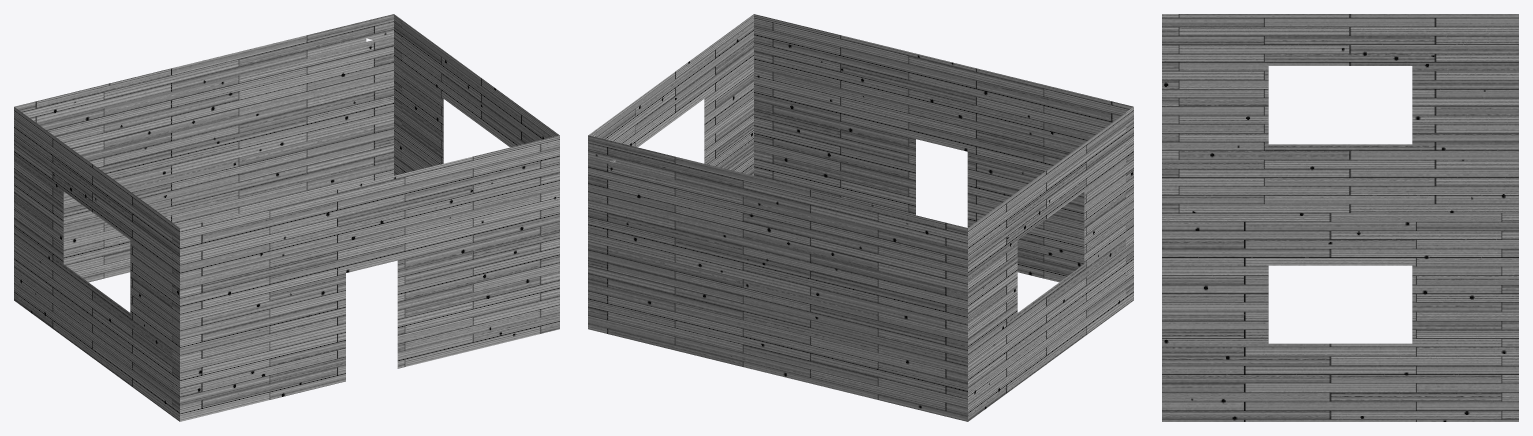
The model's file is InnoRenewHouse.glb.
The picture shows the model from 3 angles, left to right: view 1: azimuth 30°, elevation 25°; view 2: azimuth 150°, elevation 25°; view 3: azimuth 270°, elevation 25°; orthographic projection. The views are drawn at different scales.
Parts seen in each view (by area): view 1: TestHouse.002; view 2: TestHouse.002; view 3: TestHouse.002.
Boxes of the visible parts, box(x1,y1,x2,y2) form: TestHouse.002: box(14, 14, 559, 421); TestHouse.002: box(588, 14, 1133, 421); TestHouse.002: box(1162, 14, 1518, 421).
Size of the model in its own units: 8.2 by 4 by 6.2.
Materials: 1 (1 with a texture image).
